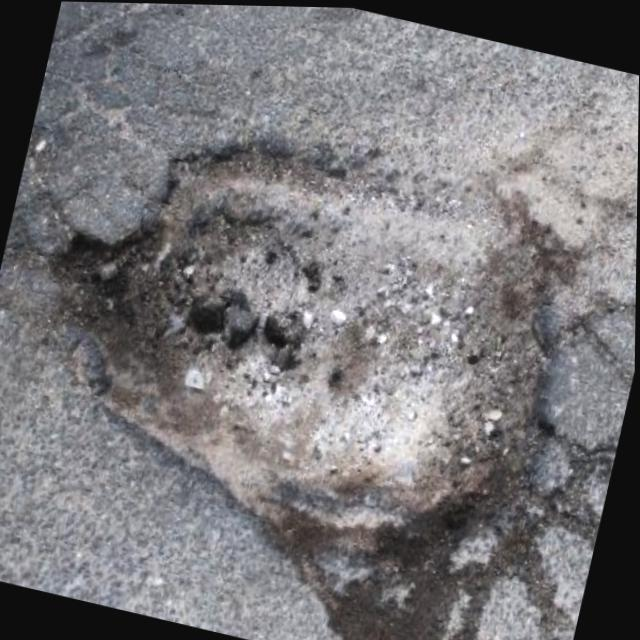Pothole: (48, 136, 560, 570)
